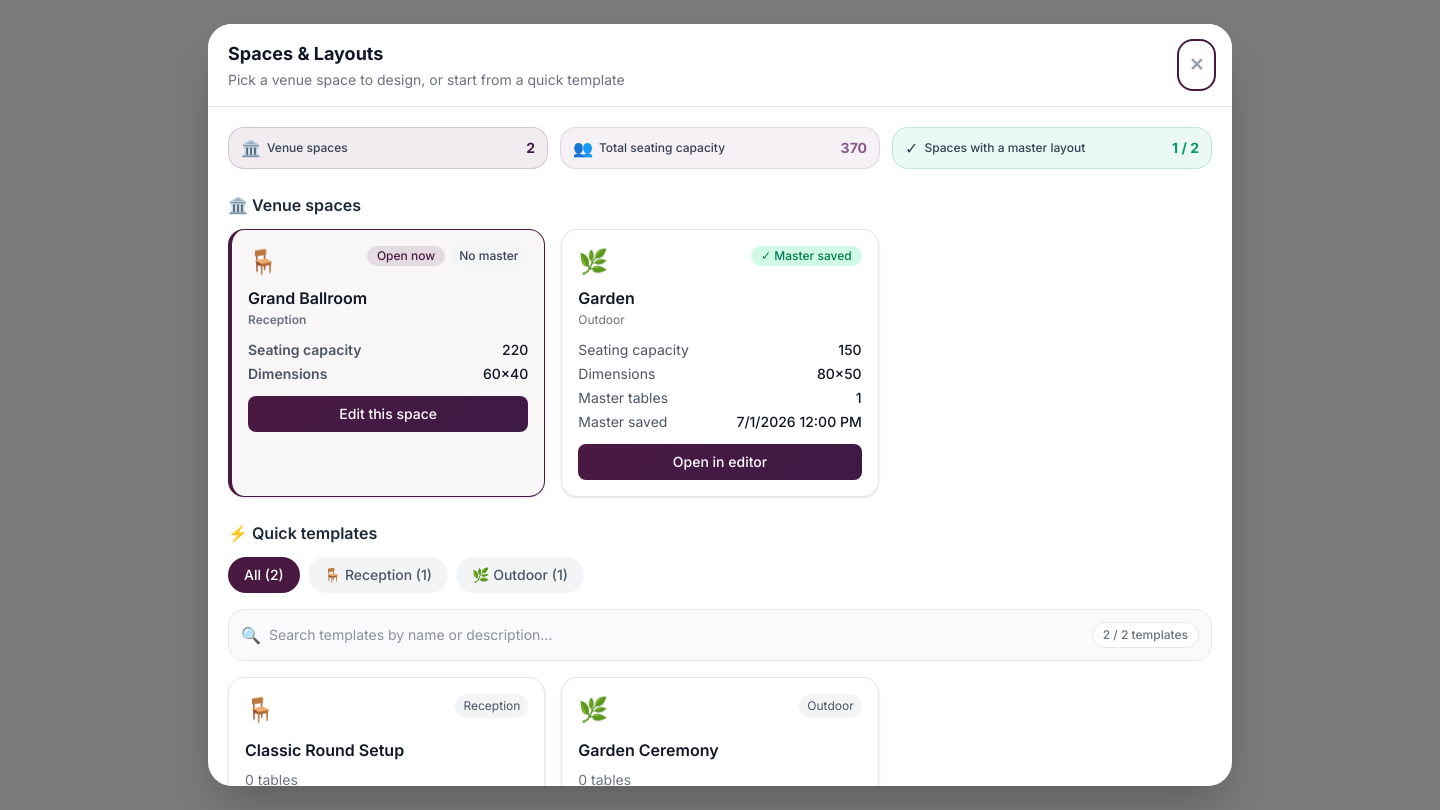
Test case: StudioLayoutsHome › filters the template gallery by category
The image size is (1440, 810).
Expected: the heading "Classic Round Setup" is shown, [245,740,404,760]
Expected: the heading "Garden Ceremony" is shown, [578,740,719,760]
Click the tab "🌿 Outdoor (1)" at (520, 575), box [456,557,584,593]
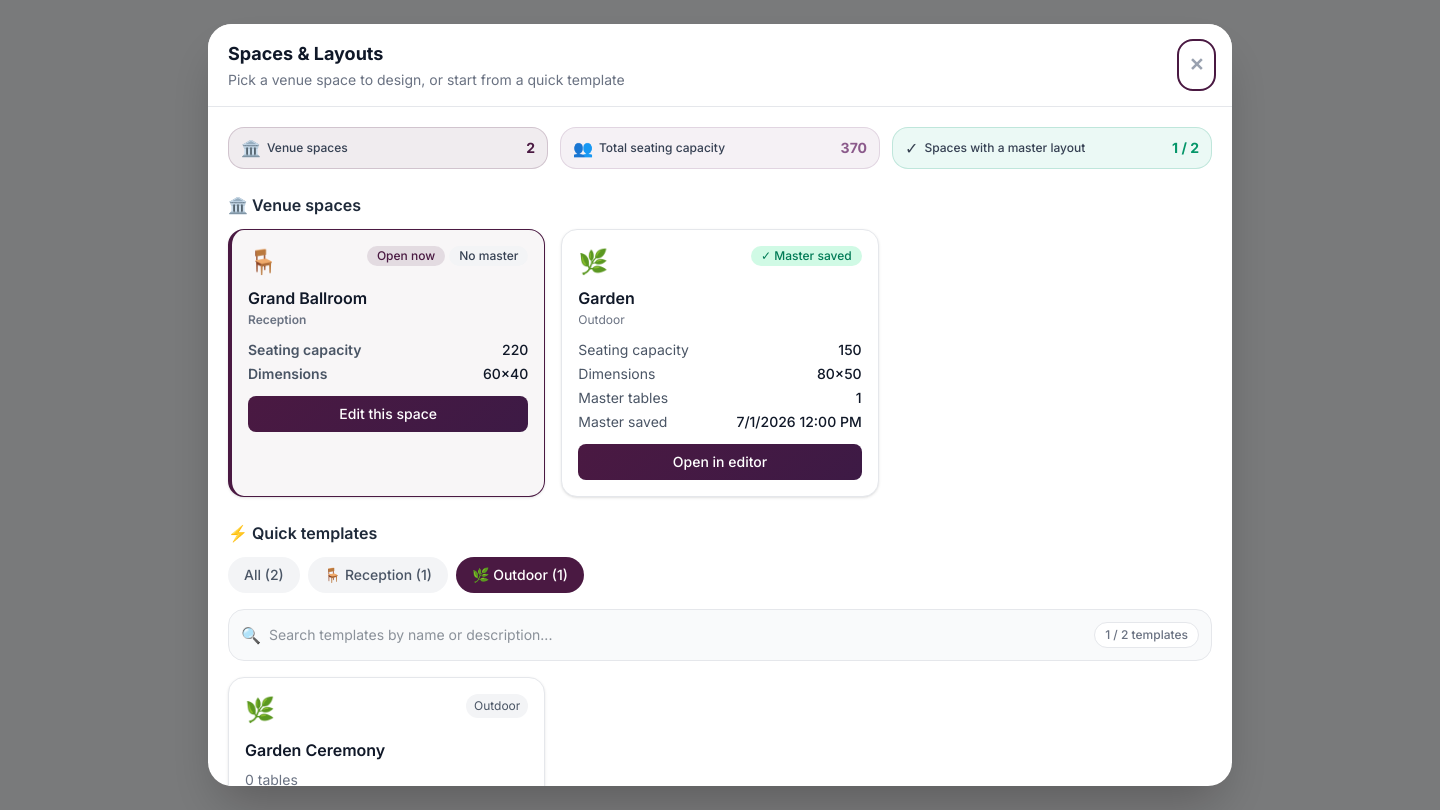
Expected: the heading "Garden Ceremony" is shown, [245,740,385,760]
Now the button "Classic Round Setup" is gone
